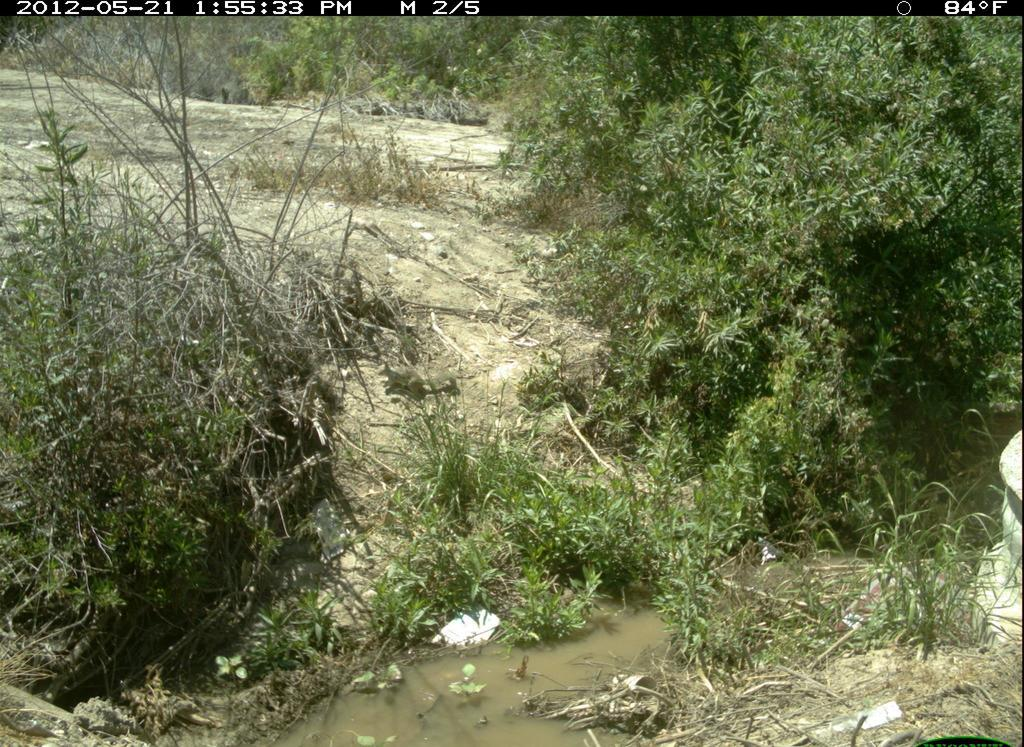squirrel: (376, 350, 463, 406)
